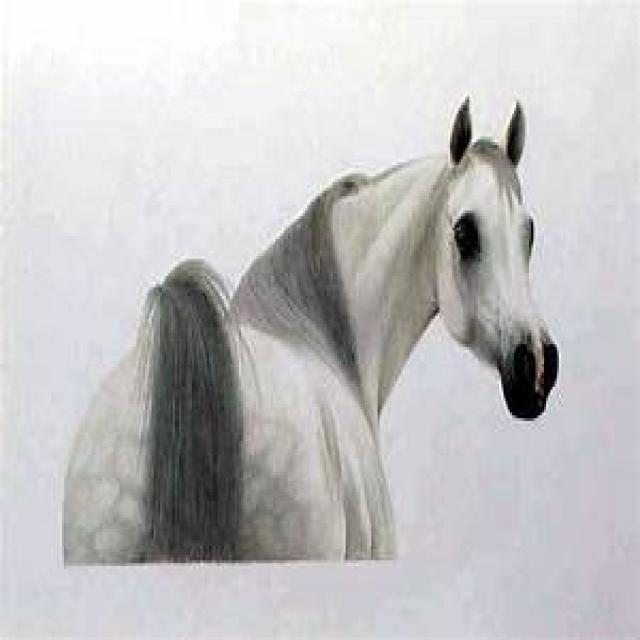horse: (54, 78, 595, 590)
